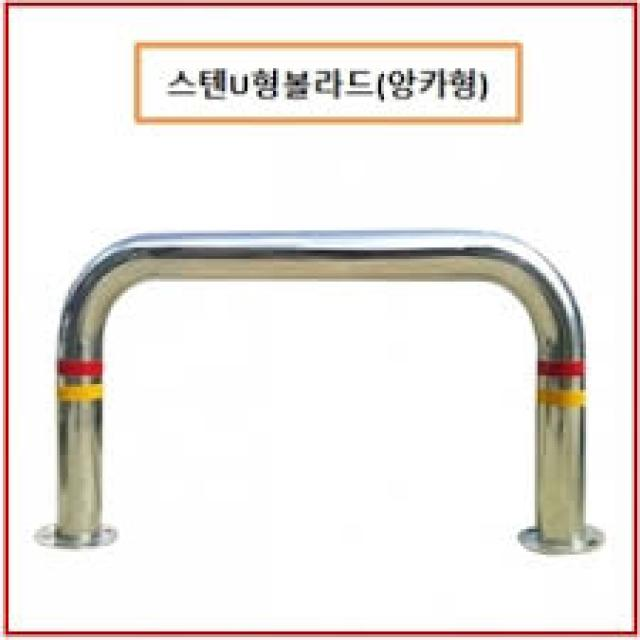bollard: (29, 211, 615, 560)
